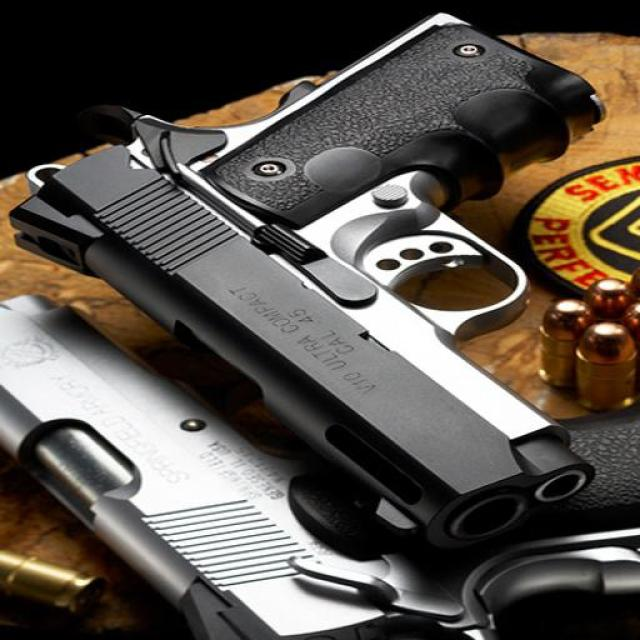pistol: (41, 14, 615, 555), (4, 285, 624, 640)
